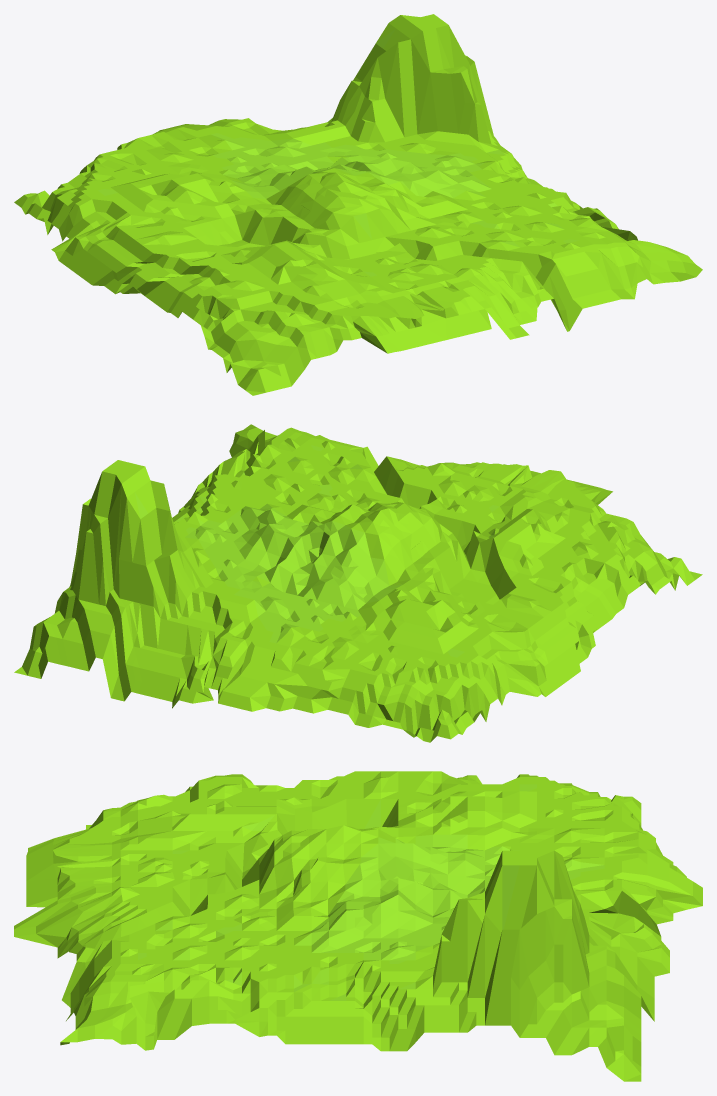
Rendered from ブレンダー10 .fbx.
3 renders of one model, top to bottom at view 1: azimuth 30°, elevation 25°; view 2: azimuth 150°, elevation 25°; view 3: azimuth 270°, elevation 25°, orthographic. The views are drawn at different scales.
Parts seen in each view (by area): view 1: 平面; view 2: 平面; view 3: 平面.
Boxes of the visible parts, x1,y1,x2,y2 form: 平面: [14, 14, 702, 395]; 平面: [14, 424, 702, 742]; 平面: [14, 771, 702, 1081].
Bounding box in the file's own units: 2231 × 772 × 2481.
